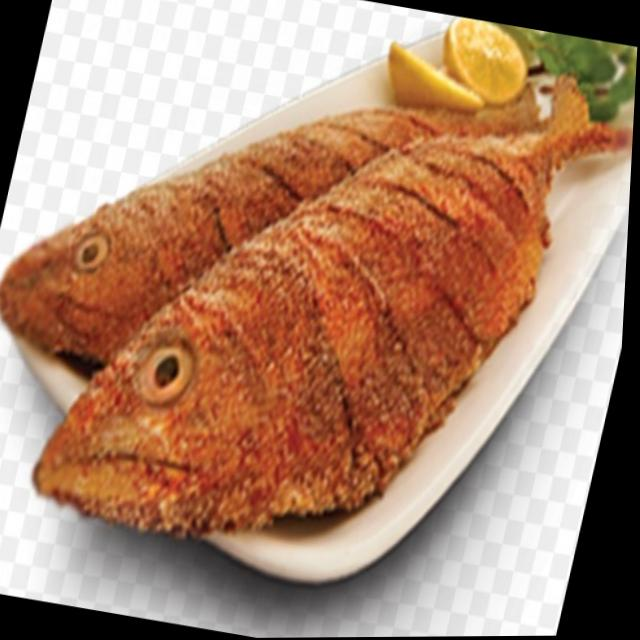FISH FRY: (0, 77, 633, 535)
